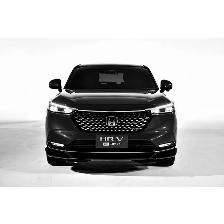NON-EV: (47, 58, 179, 169)
